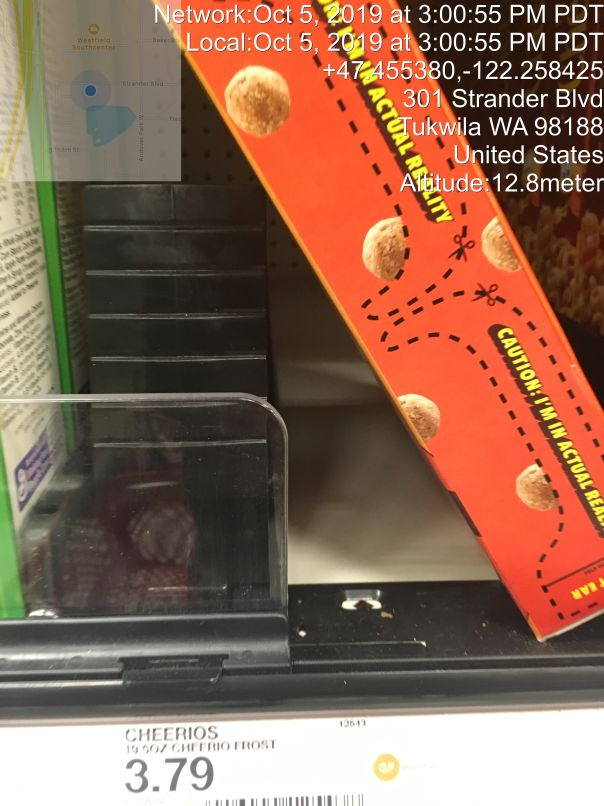Label: (109, 716, 376, 806)
Location: (391, 82, 604, 170)
Time: (139, 4, 604, 55)
Void: (30, 62, 277, 619)
